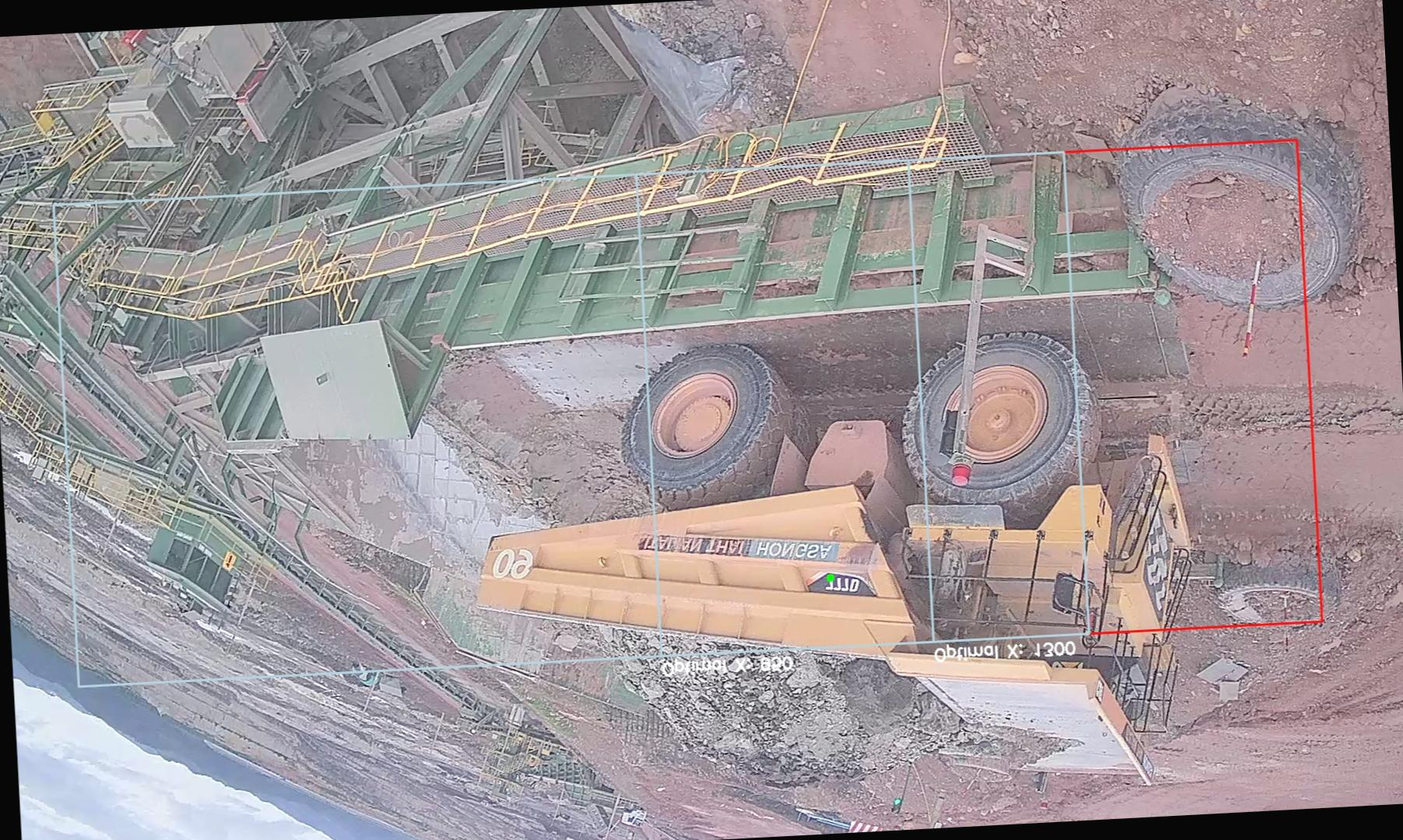company: (637, 520, 843, 580)
full_load: (630, 618, 931, 809)
mining_truck: (446, 308, 1228, 832)
tail_number: (481, 530, 549, 595)
truck_size: (802, 565, 880, 603)
